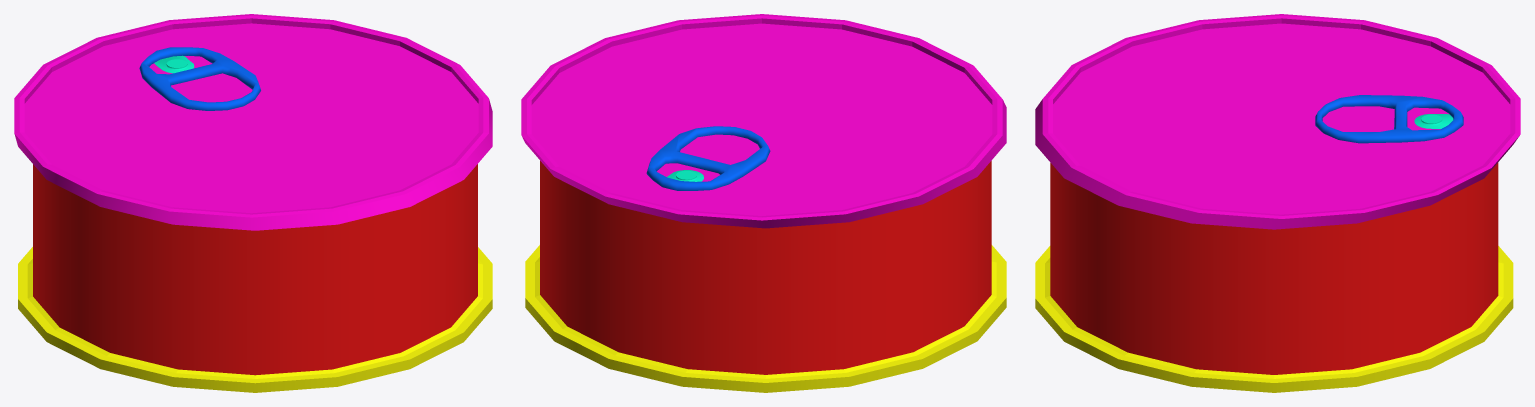
Rendered from SmallCan.fbx.
3 views of the same model, side by side, from view 1: azimuth 30°, elevation 25°; view 2: azimuth 150°, elevation 25°; view 3: azimuth 270°, elevation 25° (orthographic).
Visible parts, largest first — view 1: Tuna Can; view 2: Tuna Can; view 3: Tuna Can.
Boxes of the visible parts, left/top/right/bottom form: Tuna Can: left=14, top=14, right=492, bottom=392; Tuna Can: left=521, top=14, right=1006, bottom=392; Tuna Can: left=1035, top=14, right=1520, bottom=392.
Bounding box in the file's own units: 5.9 × 2.36 × 5.91.
